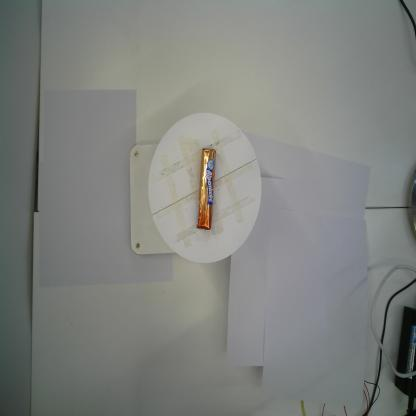Candy: (196, 148, 216, 230)
